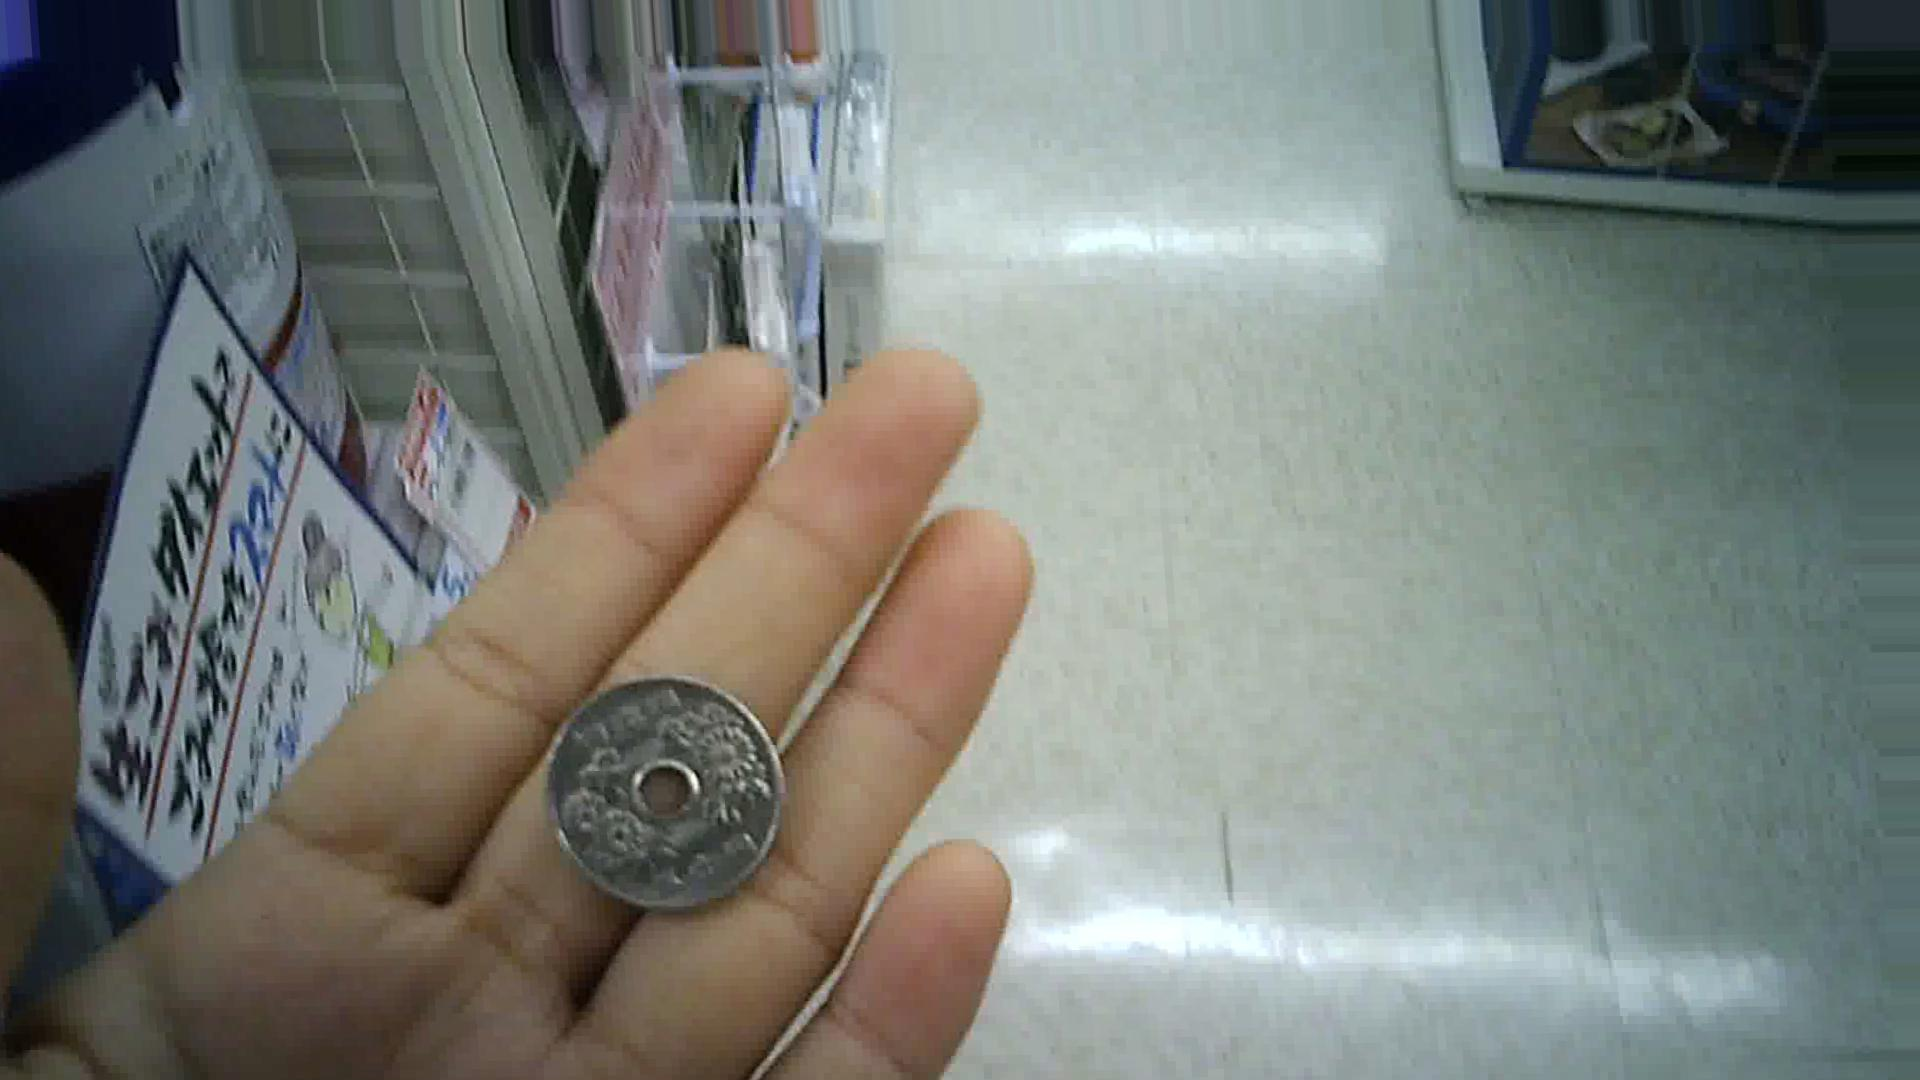50 Yen: (541, 669, 804, 909)
